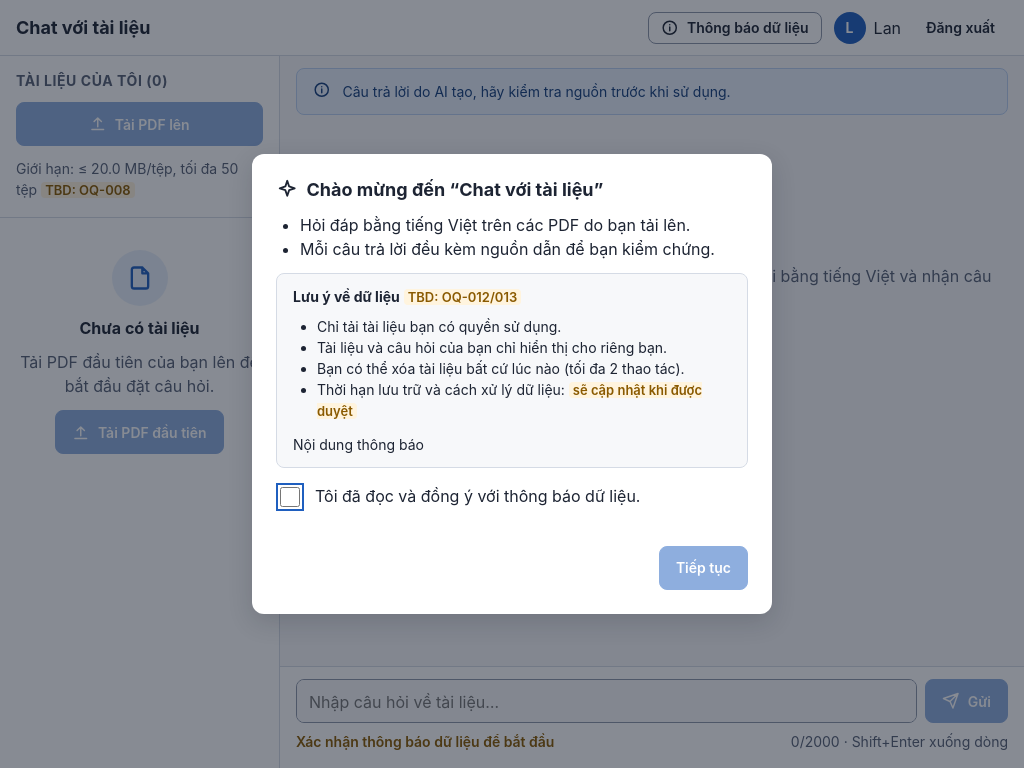
Test: Workspace — trạng thái ban đầu › tích đồng ý ⇒ gọi acceptNotice(version), phát telemetry và mở khóa
The image size is (1024, 768).
Click the checkbox. click: (290, 497)
box: [280,487,300,507]
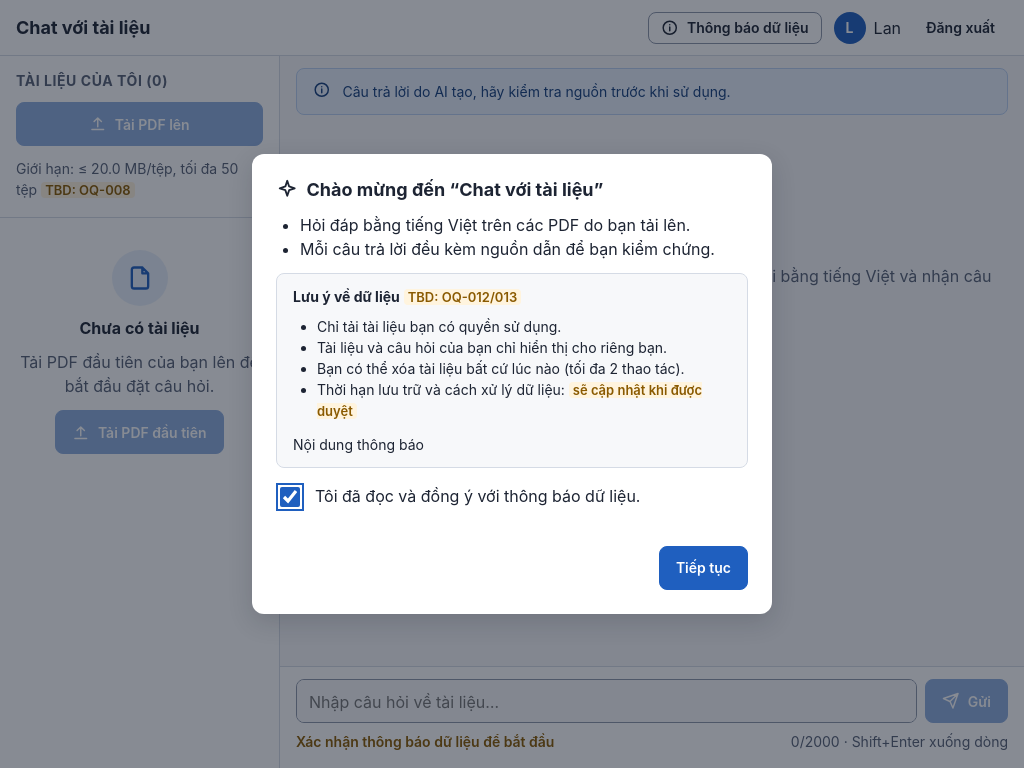
Click the button "Tiếp tục". click: (703, 568)
box: [659,546,748,590]
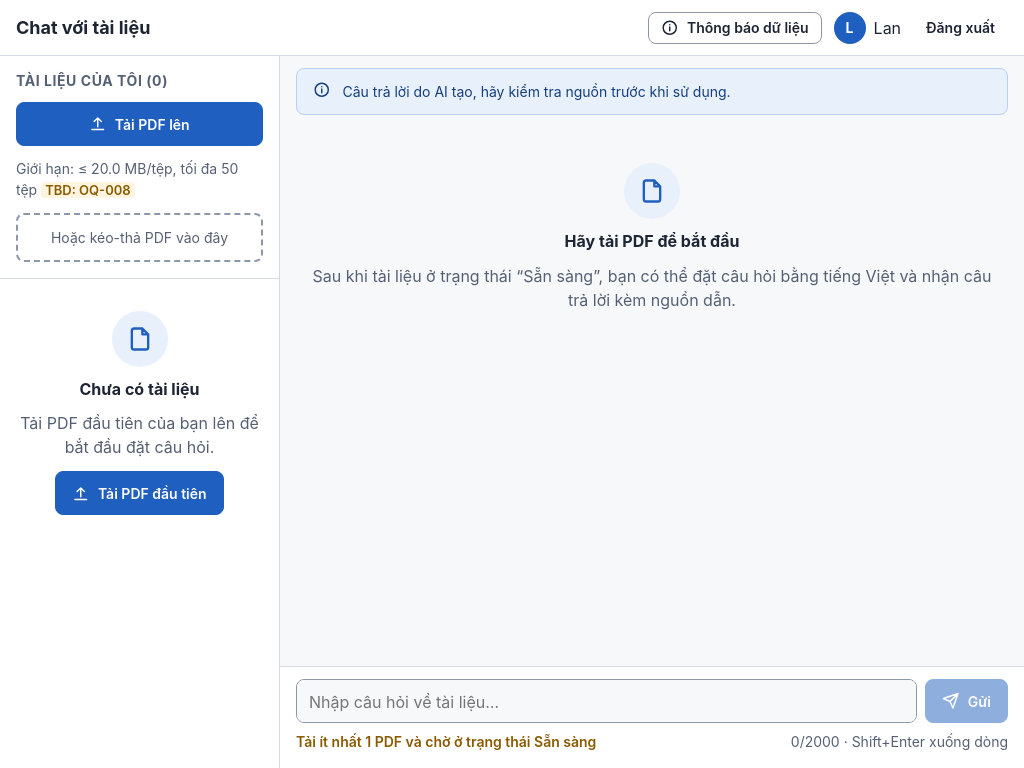
Expected: the button "Tải PDF lên" is enabled, [16,102,263,146]
